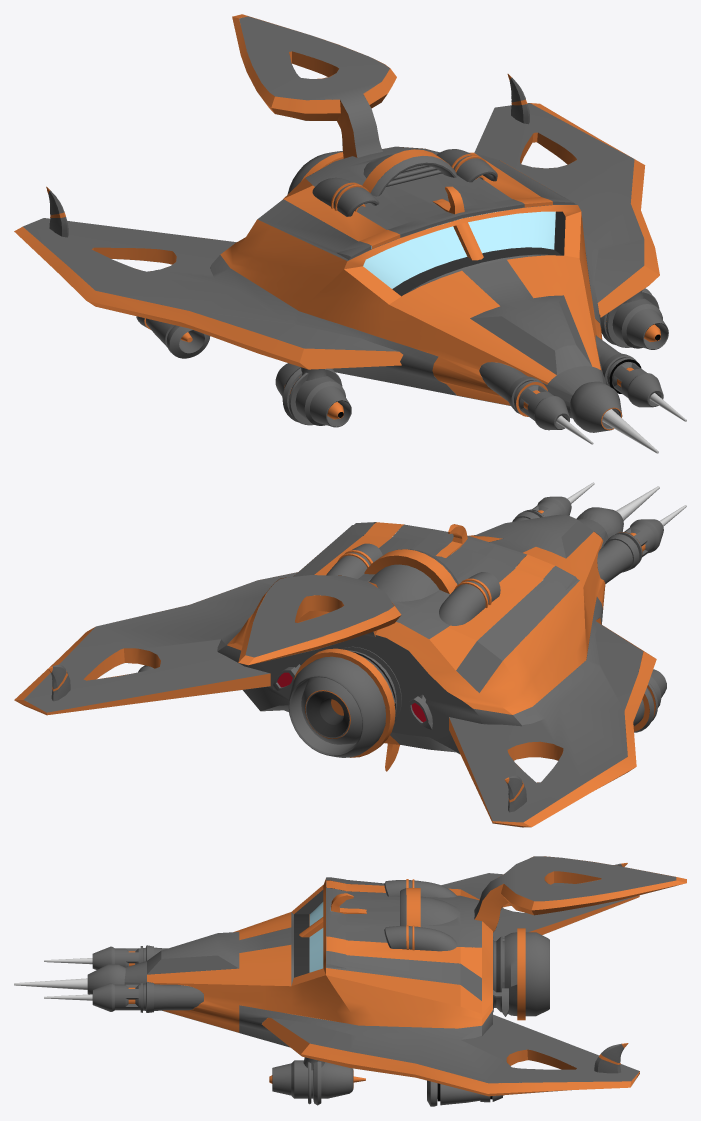
3 renders of one model, top to bottom at view 1: azimuth 30°, elevation 25°; view 2: azimuth 150°, elevation 25°; view 3: azimuth 270°, elevation 25°, orthographic. The views are drawn at different scales.
Parts seen in each view (by area): view 1: Cube.003; view 2: Cube.003; view 3: Cube.003.
Part boxes in pixels (<box>): Cube.003: <box>14,14,686,453</box>; Cube.003: <box>14,482,686,827</box>; Cube.003: <box>14,856,686,1106</box>.
Bounding box in the file's own units: 3.63 × 1.36 × 4.75.
